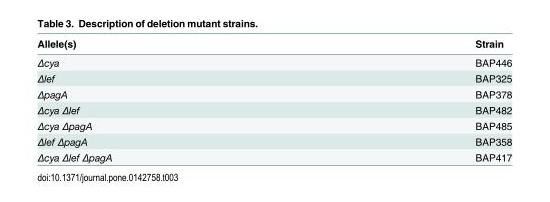table: (36, 37, 511, 163)
table column: (36, 37, 293, 163), (293, 37, 511, 163)
table column header: (36, 37, 511, 52)
table row: (36, 52, 511, 70), (36, 85, 511, 101), (36, 101, 511, 117), (36, 117, 511, 133), (36, 133, 511, 149), (36, 37, 511, 52), (36, 70, 511, 85), (36, 149, 511, 163)
